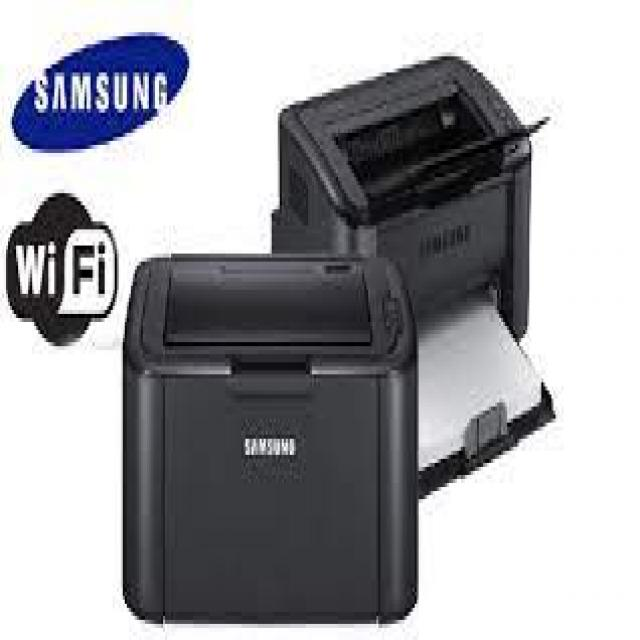printer: (273, 50, 561, 503), (119, 249, 418, 622)
